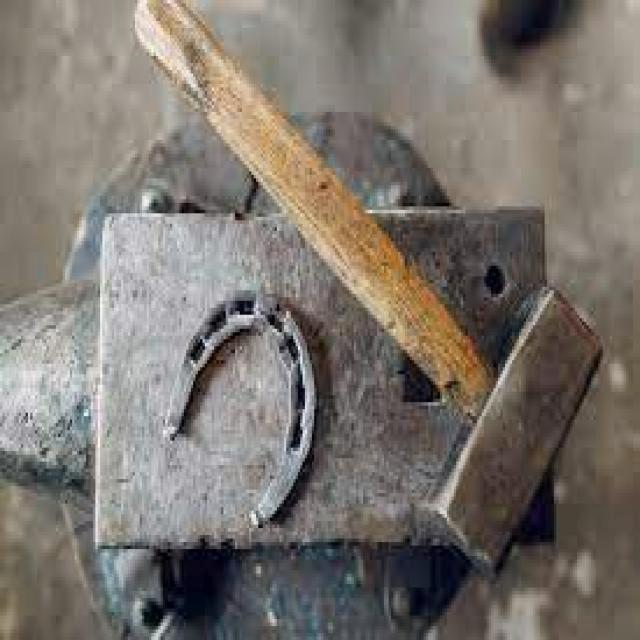hammer: (125, 0, 606, 598)
